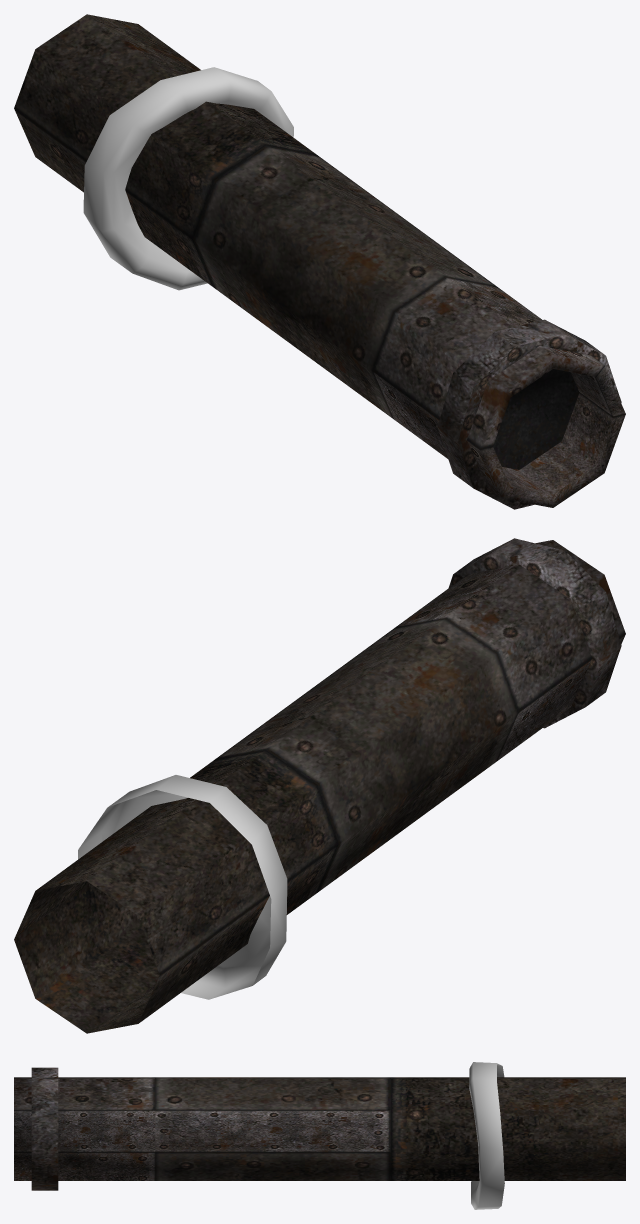
Rendered from cistern_breakable_pipe01.dae.
3 views of the same model, one above another, from view 1: azimuth 30°, elevation 25°; view 2: azimuth 150°, elevation 25°; view 3: azimuth 270°, elevation 25° (orthographic). The views are drawn at different scales.
Parts seen in each view (by area): view 1: cistern_breakable_pipe01, polySurface721; view 2: cistern_breakable_pipe01, polySurface721; view 3: cistern_breakable_pipe01, polySurface721.
Boxes of the visible parts, box(x1,y1,x2,y2) form: cistern_breakable_pipe01: box(14, 14, 625, 509); polySurface721: box(83, 67, 293, 290); cistern_breakable_pipe01: box(14, 538, 625, 1033); polySurface721: box(78, 775, 287, 999); cistern_breakable_pipe01: box(14, 1067, 625, 1190); polySurface721: box(469, 1062, 504, 1209).
Bounding box in the file's own units: 0.4722 × 0.4634 × 1.95.
